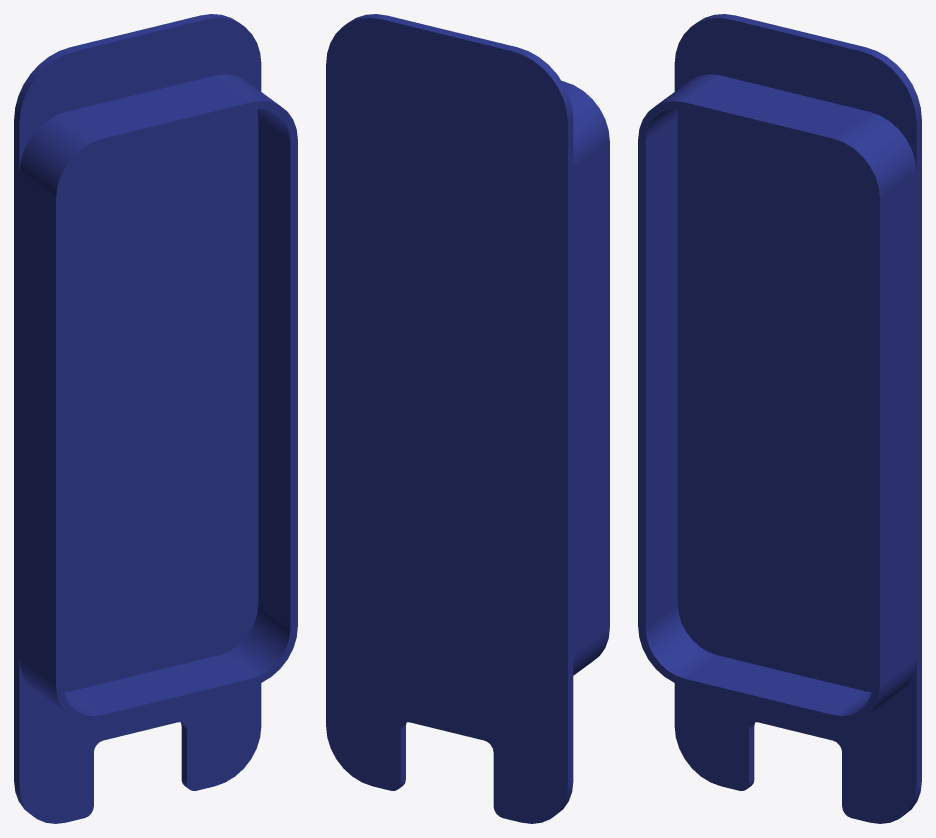
Rendered from body1_visual.obj.
The picture shows the model from 3 angles, left to right: view 1: azimuth 30°, elevation 25°; view 2: azimuth 150°, elevation 25°; view 3: azimuth 330°, elevation 25°; orthographic projection.
Parts seen in each view (by area): view 1: Body1; view 2: Body1; view 3: Body1.
Part boxes in pixels (left/top/right/bottom): Body1: left=14, top=14, right=297, bottom=823; Body1: left=326, top=14, right=609, bottom=823; Body1: left=638, top=14, right=921, bottom=823.
Bounding box in the file's own units: 260 × 790 × 78.
